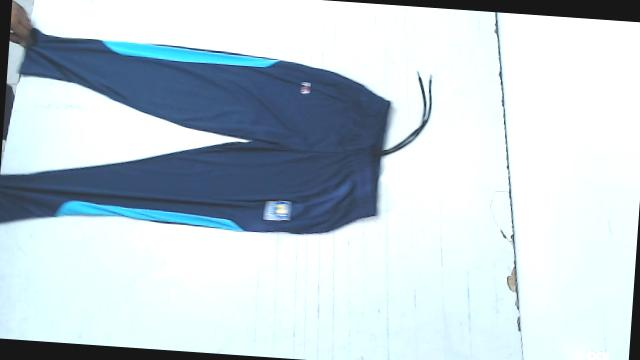new-garment: (0, 28, 430, 234)
